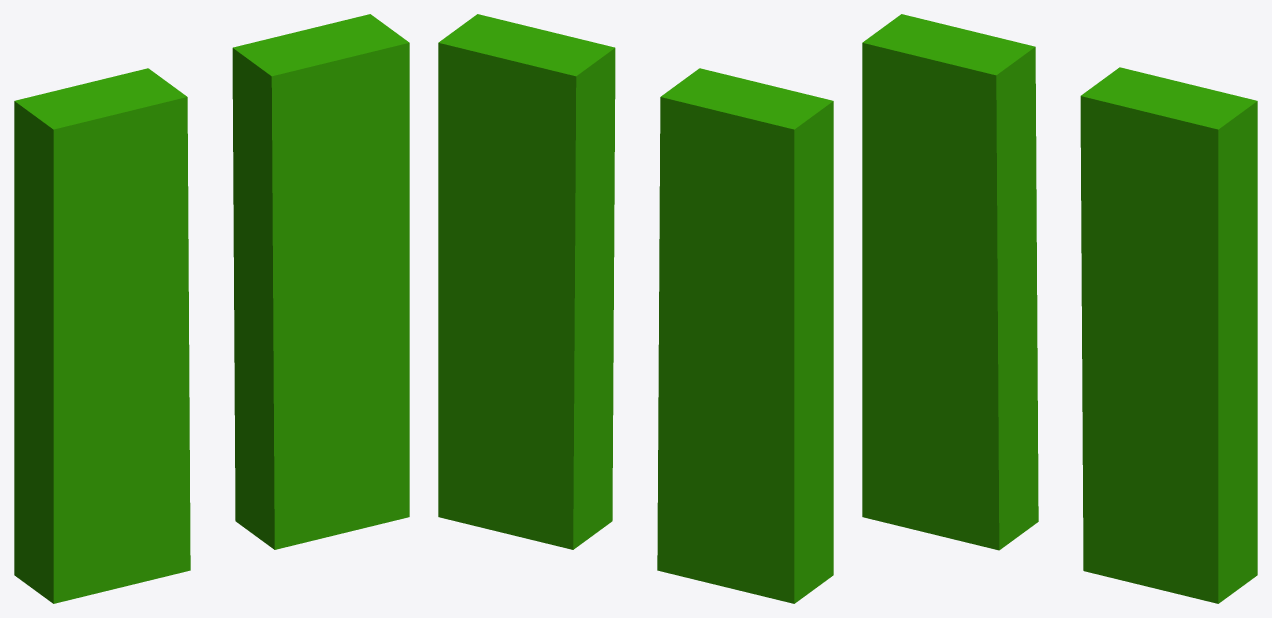
Rendered from pause.glb.
3 renders of one model, left to right at view 1: azimuth 30°, elevation 25°; view 2: azimuth 150°, elevation 25°; view 3: azimuth 330°, elevation 25°, orthographic.
Parts seen in each view (by area): view 1: Plane, Plane.001; view 2: Plane, Plane.001; view 3: Plane, Plane.001.
Boxes of the visible parts, x1,y1,x2,y2 form: Plane: (232,14,409,549); Plane.001: (14,68,190,603); Plane: (438,14,615,549); Plane.001: (657,68,833,603); Plane: (1080,67,1257,603); Plane.001: (862,14,1038,550).
Bounding box in the file's own units: 0.7857 × 1 × 0.15.
